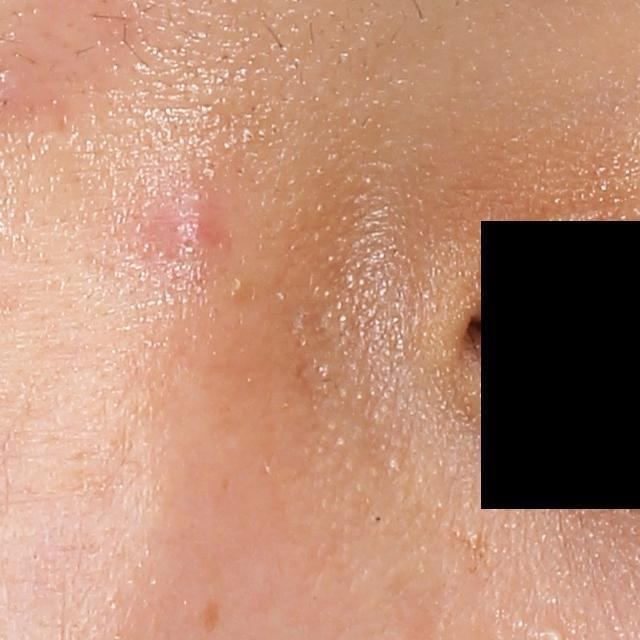comedo: (368, 512, 387, 527)
melasma: (447, 524, 498, 580), (202, 595, 225, 637)
papule: (139, 188, 228, 257)
